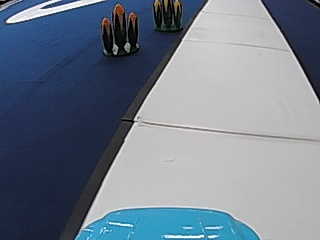corn: (99, 3, 141, 56), (151, 0, 183, 31)
